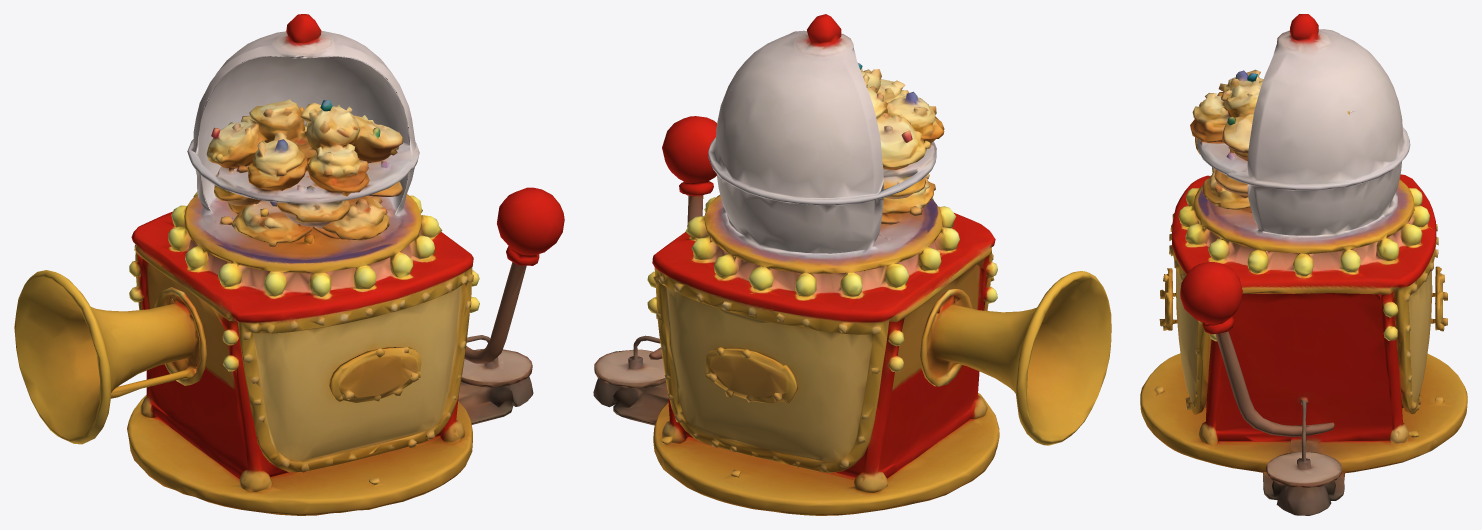
File: pie-o-matic.glb
The picture shows the model from 3 angles, left to right: view 1: azimuth 30°, elevation 25°; view 2: azimuth 150°, elevation 25°; view 3: azimuth 270°, elevation 25°; orthographic projection. The views are drawn at different scales.
Visible parts, largest first — view 1: tripo_node_a114a8aa-a70e-4041-9682-326182e9343a; view 2: tripo_node_a114a8aa-a70e-4041-9682-326182e9343a; view 3: tripo_node_a114a8aa-a70e-4041-9682-326182e9343a.
Part boxes in pixels (x1,y1,x2,y2): tripo_node_a114a8aa-a70e-4041-9682-326182e9343a: (14,14,564,515); tripo_node_a114a8aa-a70e-4041-9682-326182e9343a: (593,14,1111,515); tripo_node_a114a8aa-a70e-4041-9682-326182e9343a: (1140,14,1467,515).
Size of the model in its own units: 1 by 0.8663 by 0.6451.
1 material, 1 textured.
